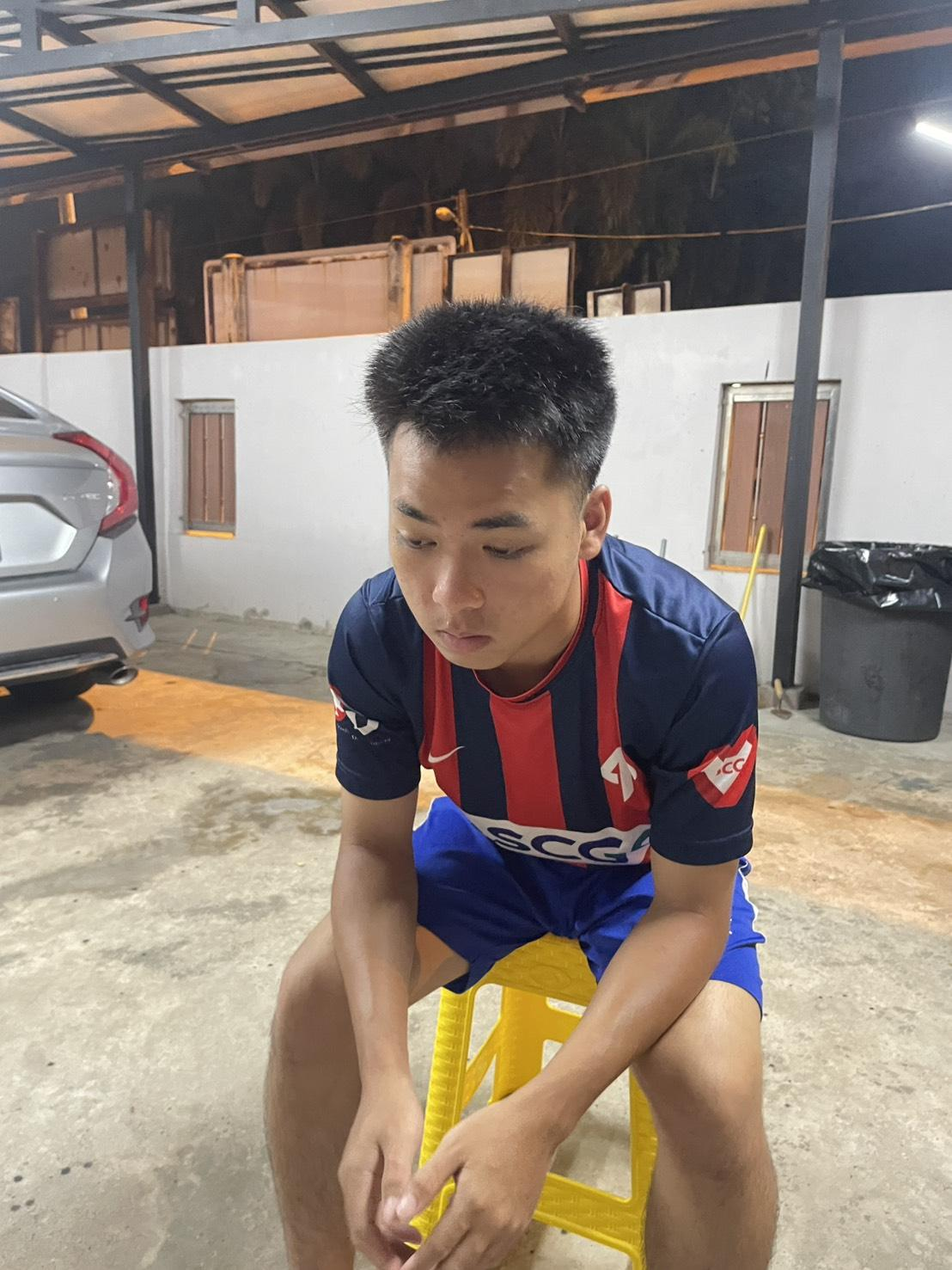BadPosture: (328, 300, 757, 870)
